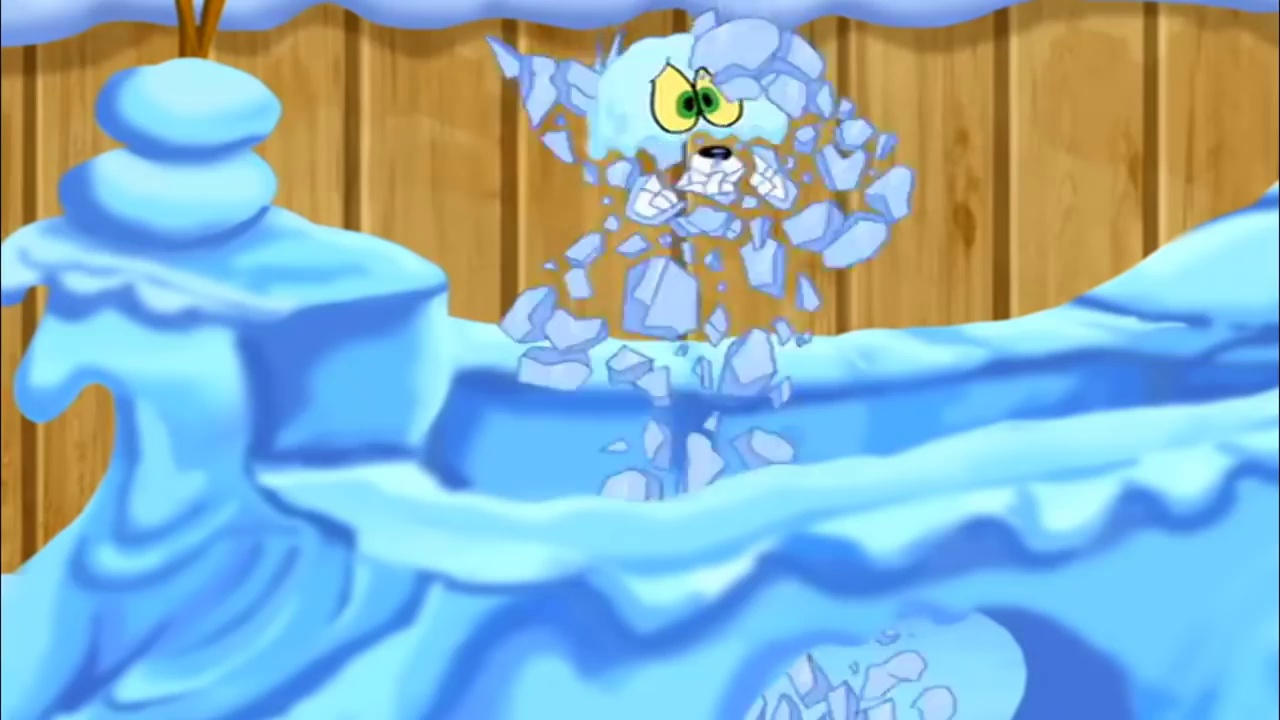face: (620, 47, 803, 236)
